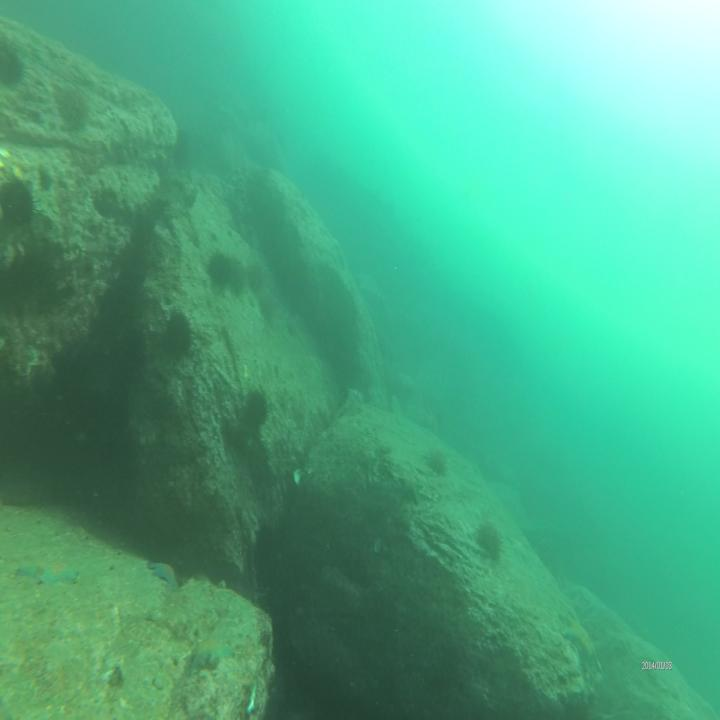echinus: (0, 177, 40, 229), (162, 306, 196, 359), (58, 84, 92, 133), (476, 520, 504, 562), (0, 45, 27, 88), (245, 388, 269, 433), (208, 247, 228, 290), (426, 446, 449, 481), (228, 253, 247, 294), (245, 257, 263, 291)
starfish: (188, 633, 232, 677), (18, 559, 77, 591), (147, 554, 178, 594)
